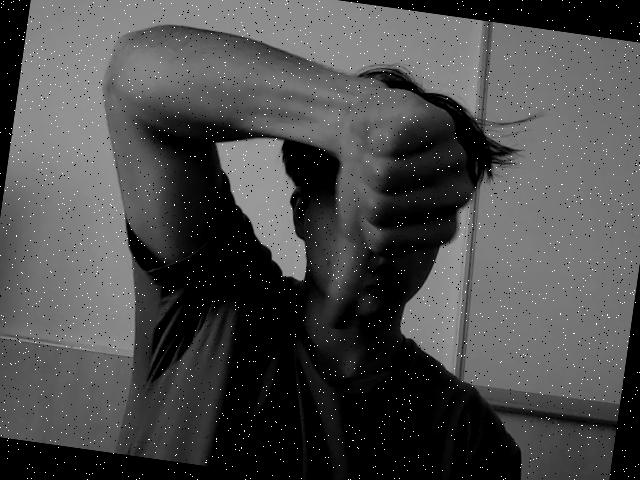bad: (286, 71, 488, 345)
